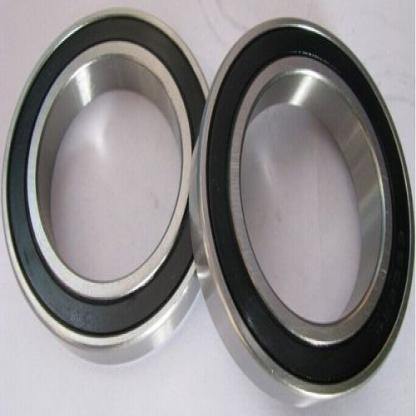FOD: (185, 10, 415, 414), (0, 0, 219, 367)
